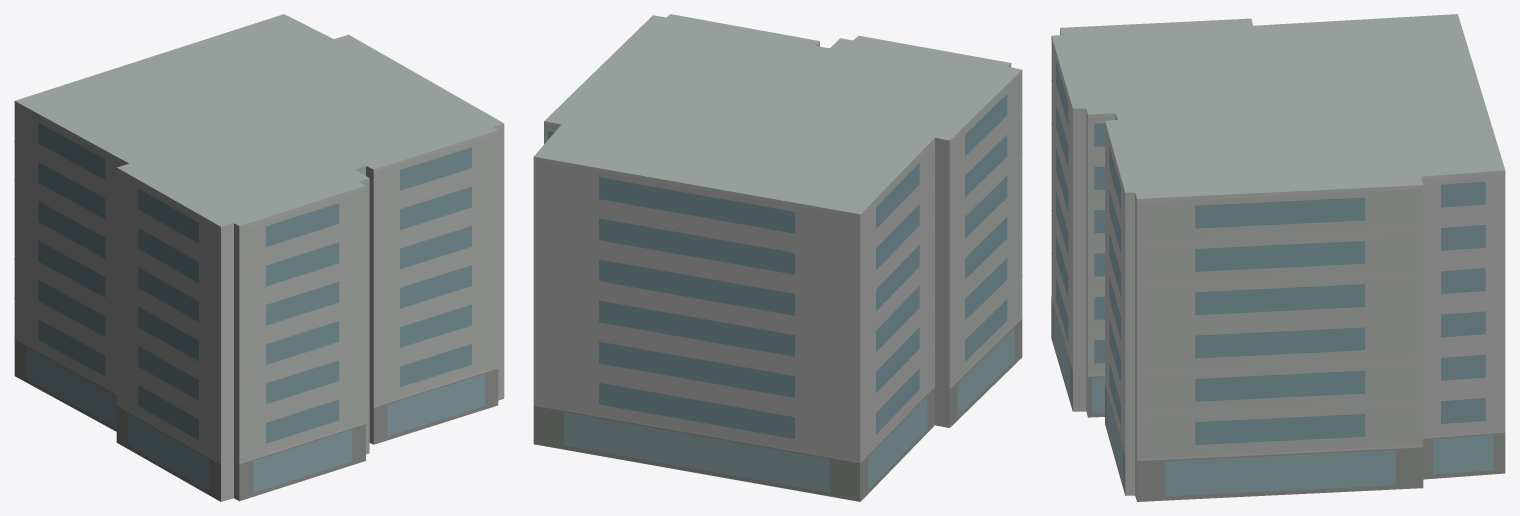
File: survey-upis-32849904.glb
The picture shows the model from 3 angles, left to right: view 1: azimuth 30°, elevation 25°; view 2: azimuth 150°, elevation 25°; view 3: azimuth 270°, elevation 25°; orthographic projection. The views are drawn at different scales.
Visible parts, largest first — view 1: survey-upis-32849904.tmp; view 2: survey-upis-32849904.tmp; view 3: survey-upis-32849904.tmp.
Boxes of the visible parts, box(x1,y1,x2,y2) form: survey-upis-32849904.tmp: box(14, 14, 504, 501); survey-upis-32849904.tmp: box(533, 14, 1022, 501); survey-upis-32849904.tmp: box(1051, 14, 1505, 501).
Size of the model in its own units: 25.61 by 19.55 by 26.57.
